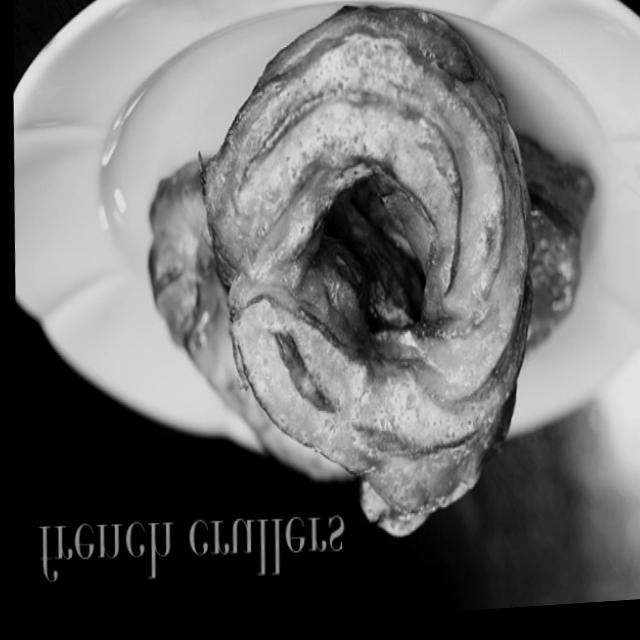炸货点心: (102, 0, 611, 579)
